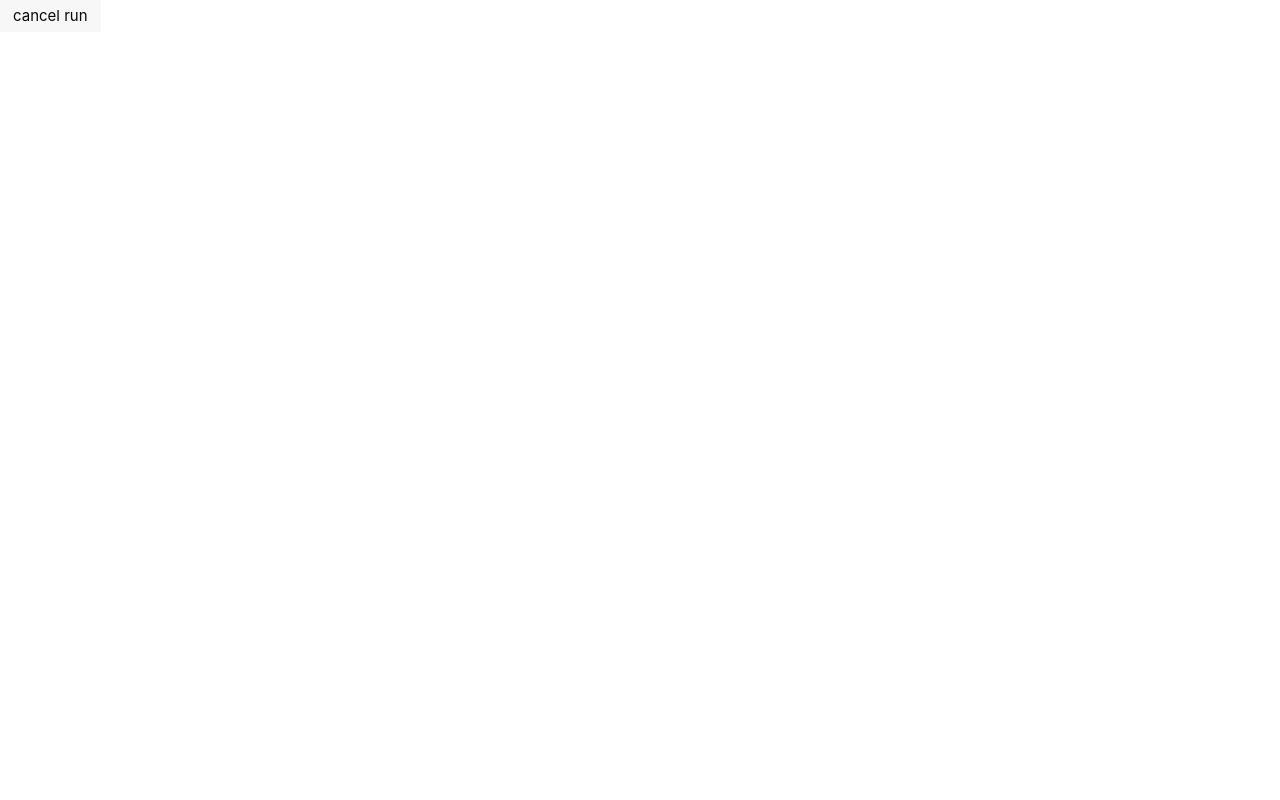
Test: review invokes execute before confirm dispatch returns and maps a synchronous throw to unknown
Later steps or results of the test are not shown.
Click the button "cancel run": (50, 16) [0,0,100,32]
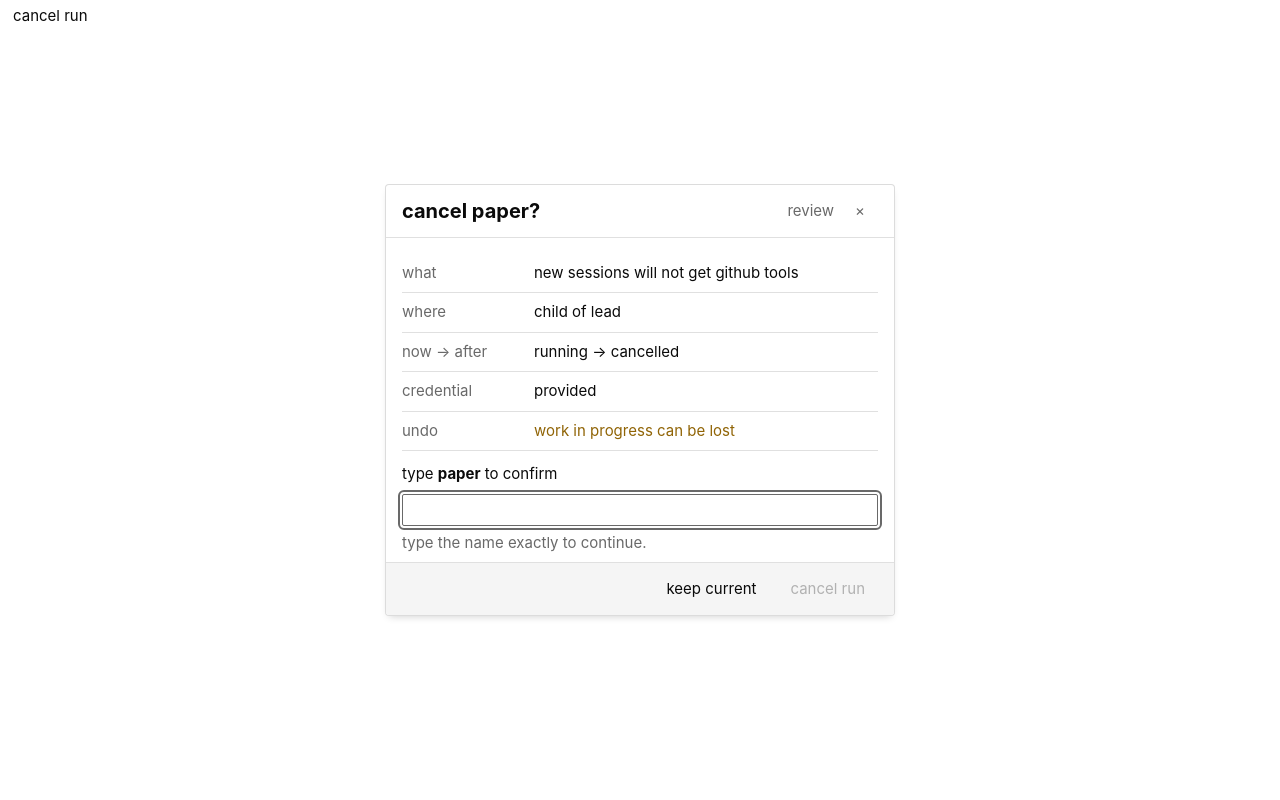
In the field: (640, 510) [402,494,878,526], type "paper"
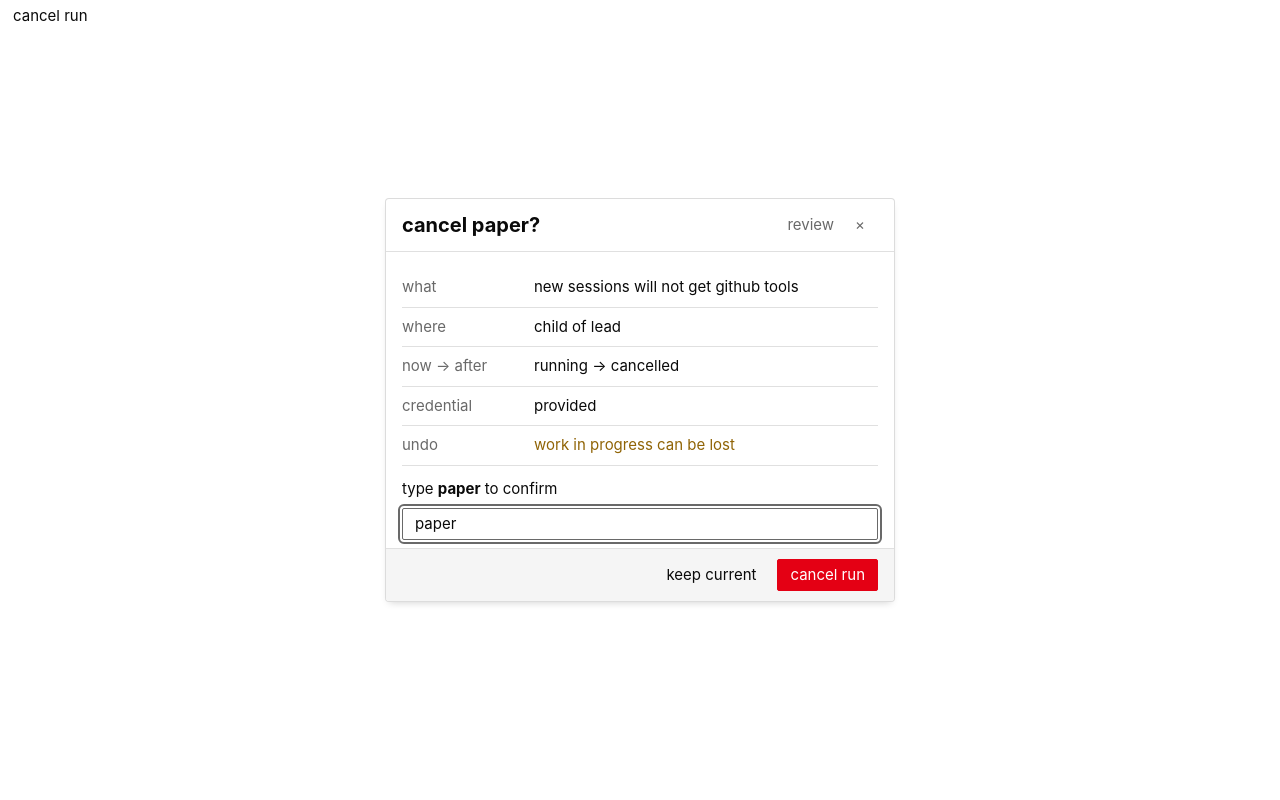
Submit the form named "cancel run", box [386,199,894,601]
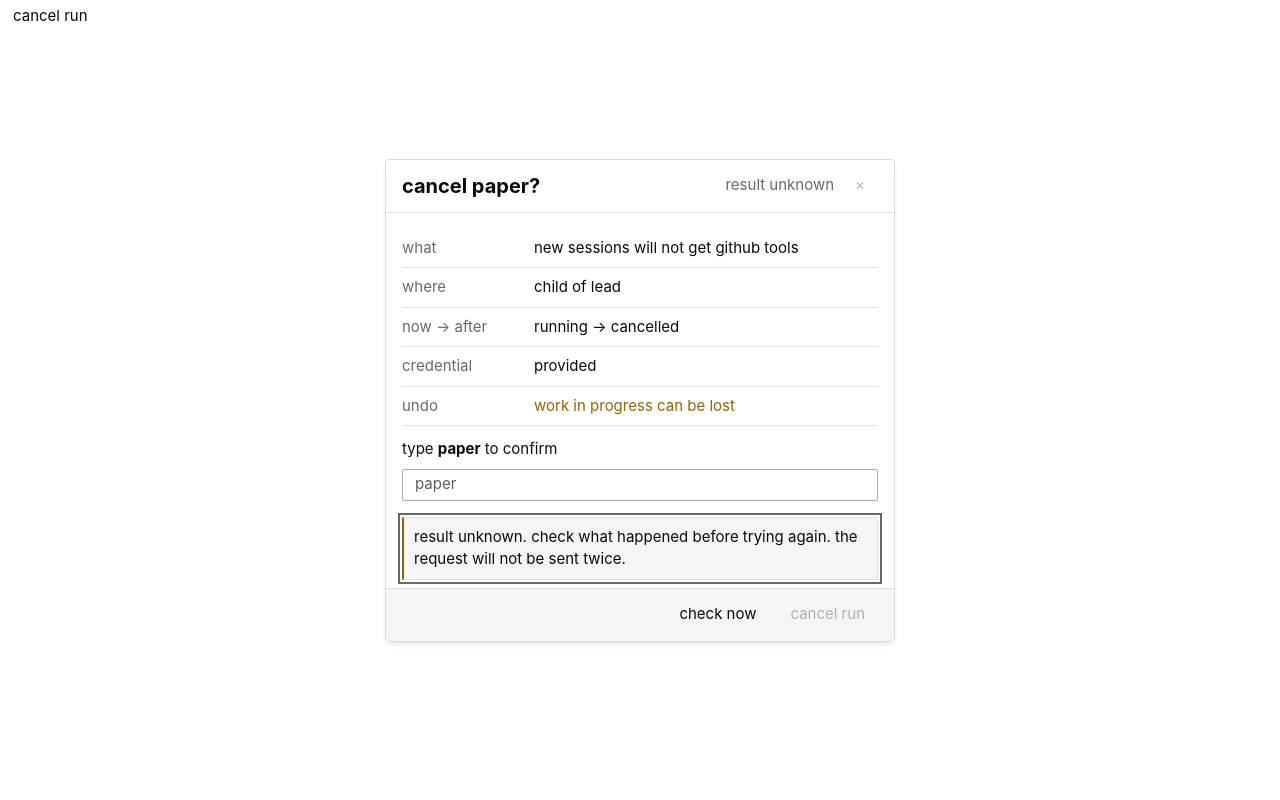
Check: the text "result unknown." is shown, box [414,526,858,568]
